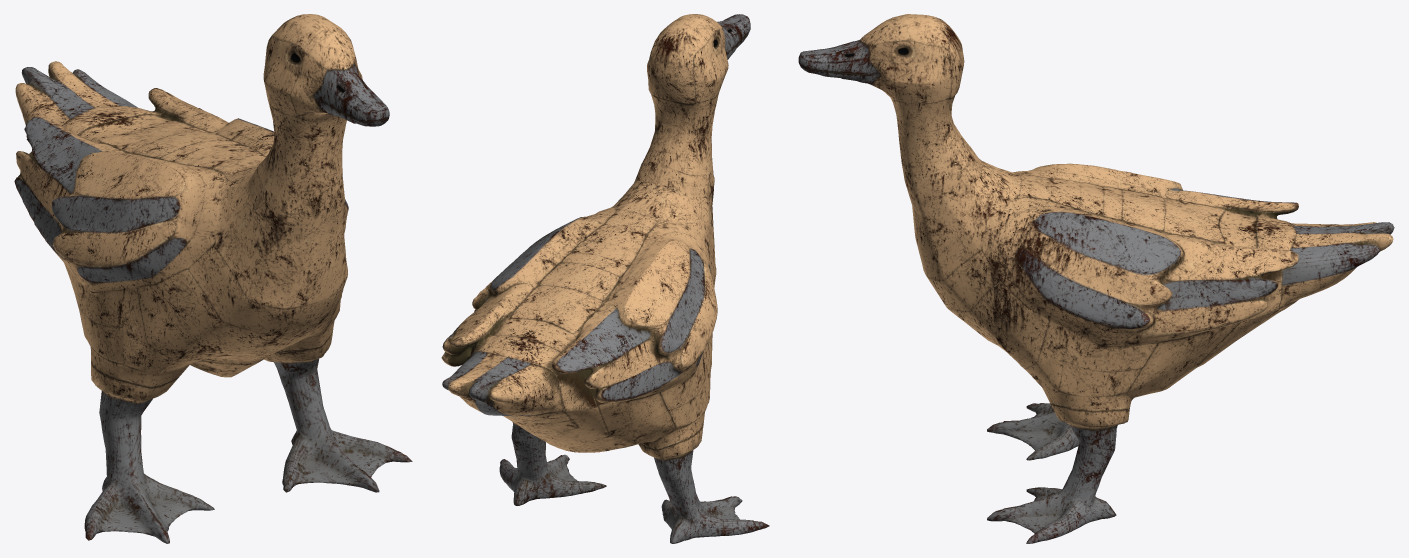
Rendered from MZ4250 - Clockwork Duck - Bronze Rusty.glb.
The picture shows the model from 3 angles, left to right: view 1: azimuth 30°, elevation 25°; view 2: azimuth 150°, elevation 25°; view 3: azimuth 270°, elevation 25°; orthographic projection. The views are drawn at different scales.
Parts seen in each view (by area): view 1: Clockwork Duck_low.001; view 2: Clockwork Duck_low.001; view 3: Clockwork Duck_low.001.
Part boxes in pixels (x1,y1,x2,y2): Clockwork Duck_low.001: (14, 14, 412, 543); Clockwork Duck_low.001: (441, 14, 769, 543); Clockwork Duck_low.001: (798, 14, 1394, 543).
Size of the model in its own units: 0.1904 by 0.2977 by 0.3497.
1 material, 1 textured.
